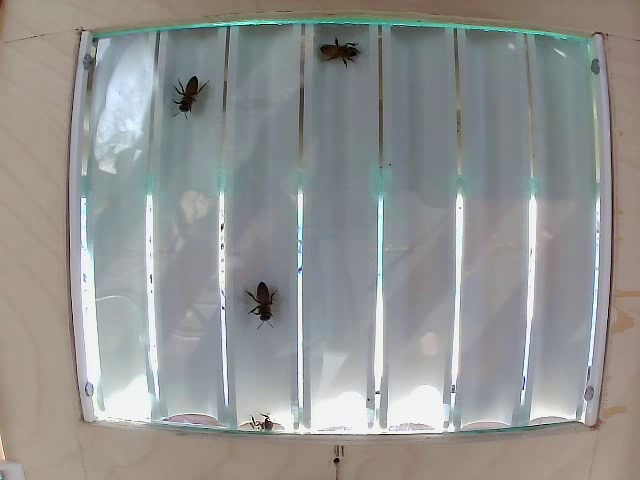bee: (171, 81, 214, 126), (326, 46, 370, 82), (245, 279, 279, 322)
